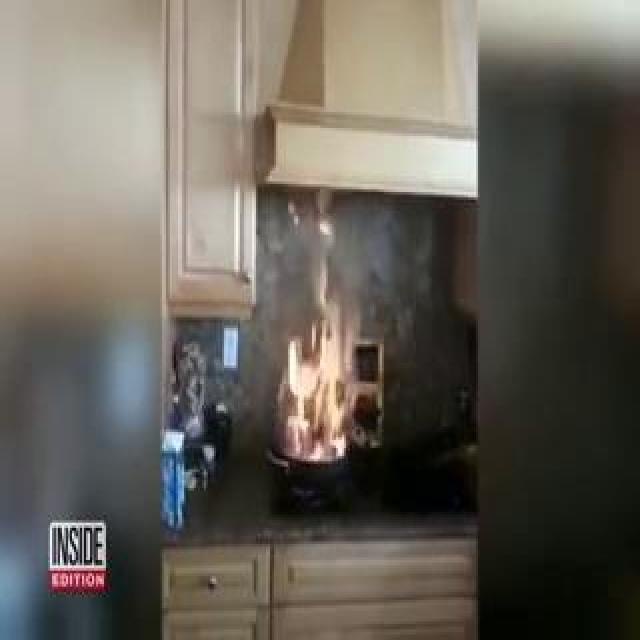Fire: (273, 235, 363, 472)
